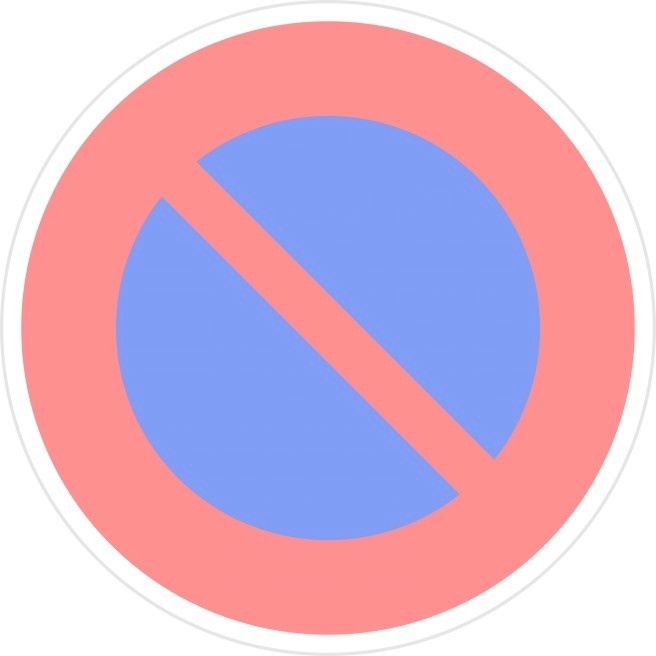Prohibition_sign: (8, 1, 652, 654)
